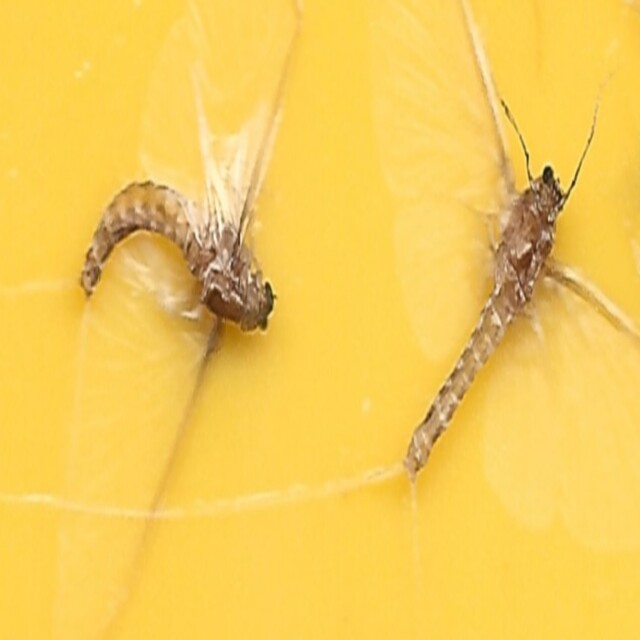Ephemeroptera: (408, 159, 568, 481), (72, 176, 280, 349)
